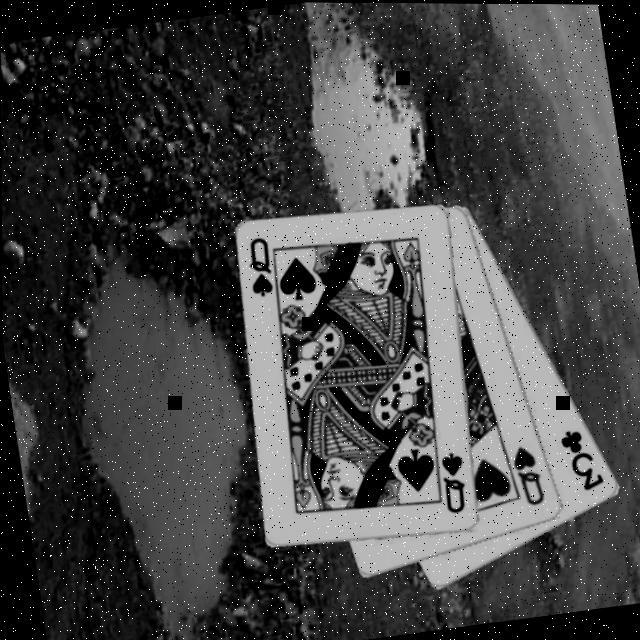3C: (557, 421, 610, 494)
QH: (509, 438, 550, 508)
QS: (242, 232, 280, 299), (437, 446, 474, 514)
